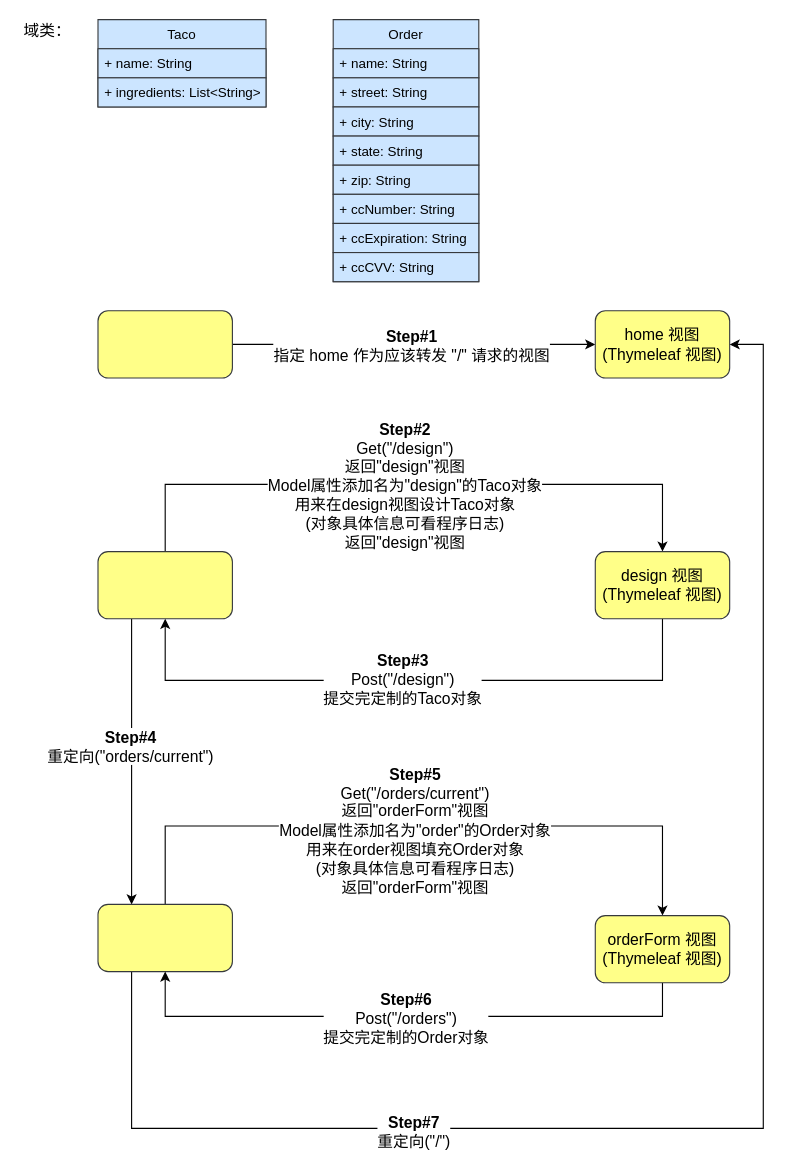
Some shapes in this 792 by 1169 pixel diagram are drawn without their labels. The shapes that lost their labels are listed below. From the top down, each one's centre as x and y in pixels, then its label:
(164,344): WebConfig 视图控制器
(164,584): DesignTaco 控制器
(164,937): Order 控制器
